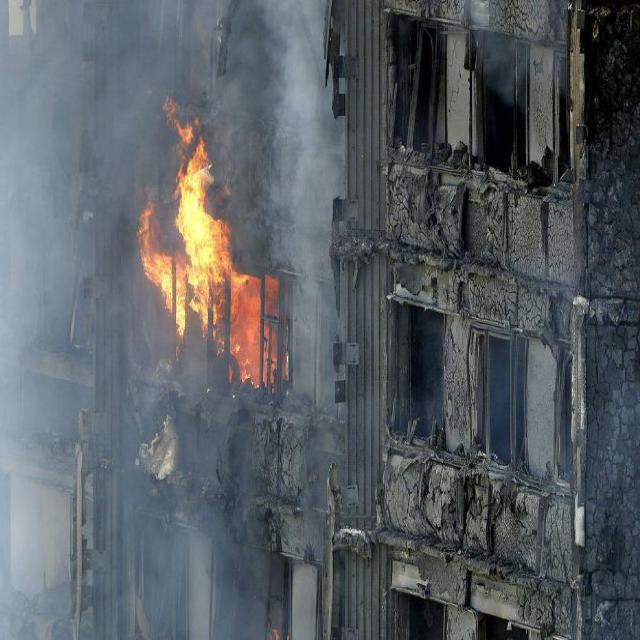Fire: (133, 100, 284, 394)
